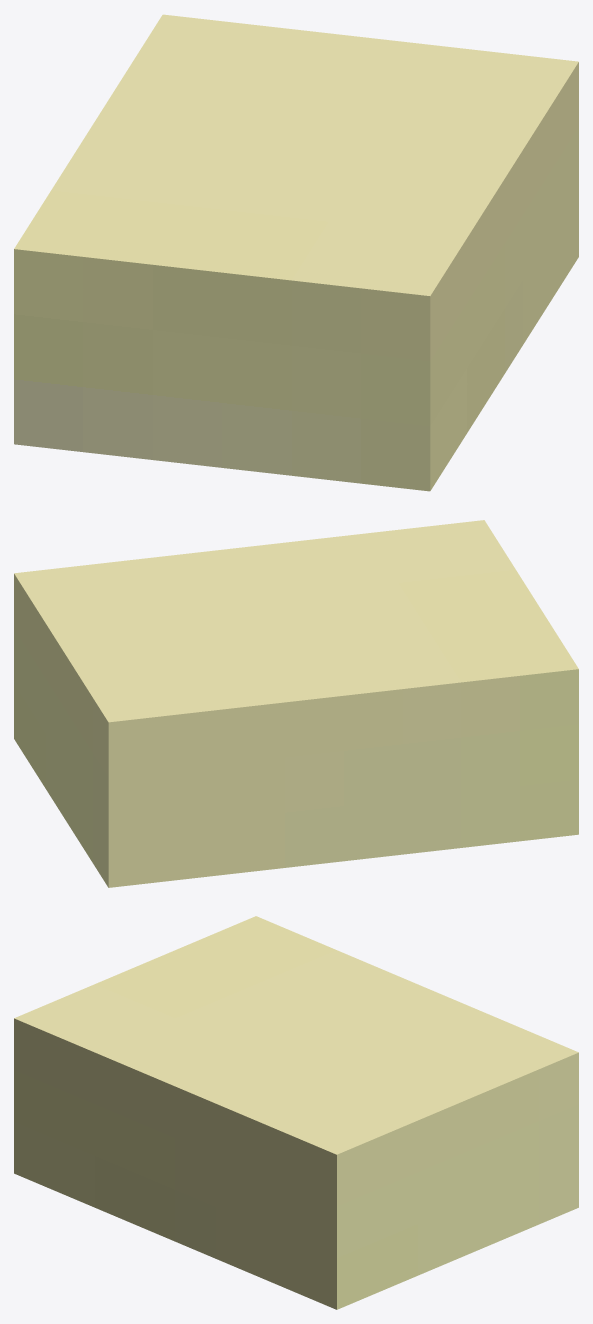
Rendered from butter-optimized.glb.
3 views of the same model, one above another, from view 1: azimuth 30°, elevation 25°; view 2: azimuth 150°, elevation 25°; view 3: azimuth 270°, elevation 25° (orthographic). The views are drawn at different scales.
Visible parts, largest first — view 1: cuboid; view 2: cuboid; view 3: cuboid.
Boxes of the visible parts, x1,y1,x2,y2 form: cuboid: (14,14,578,491); cuboid: (14,520,578,887); cuboid: (14,916,578,1309).
Size of the model in its own units: 0.6187 by 0.1875 by 0.6187.
1 material, 1 textured.
